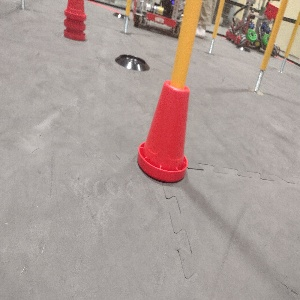Red_1: (136, 77, 190, 183)
